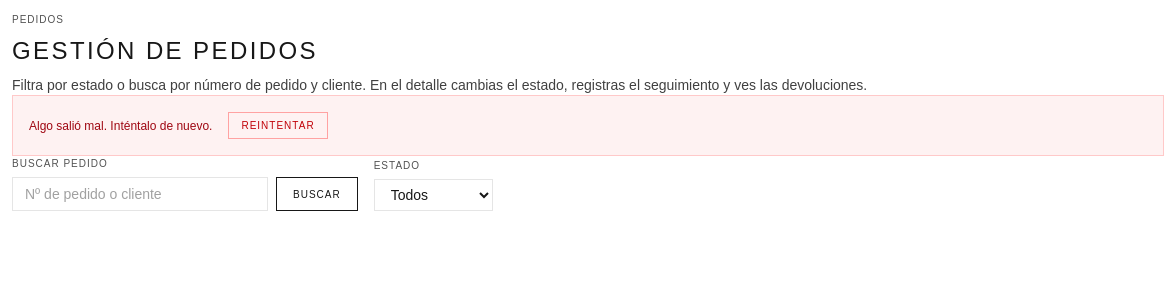
Test: AdminOrdersPage › un error de red se traduce y «Reintentar» recarga la página
Expected: the message shows "Algo salió mal", [29,119,212,133]
Expected: the link "ORD-7401A" is not shown
Click the button "Reintentar".
click(278, 126)  # box [228,112,328,139]
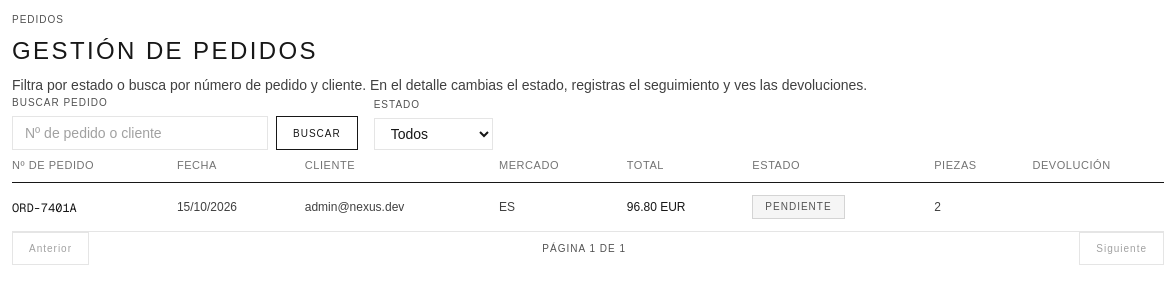
Now the link "ORD-7401A" is shown, box [12,200,77,216]
Now the message "Algo salió mal. Inténtalo de nuevo. Reintentar" is gone
